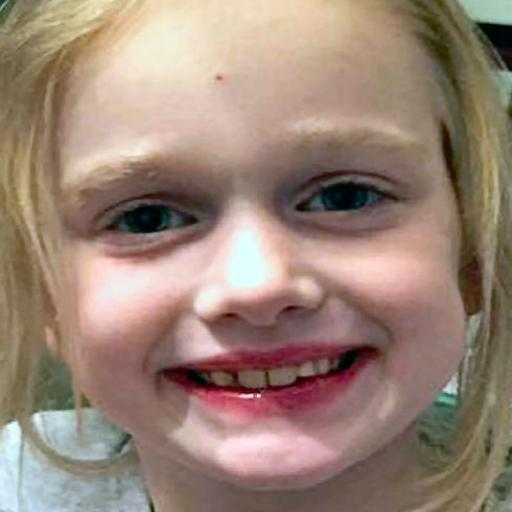Autism: (10, 6, 511, 512)
